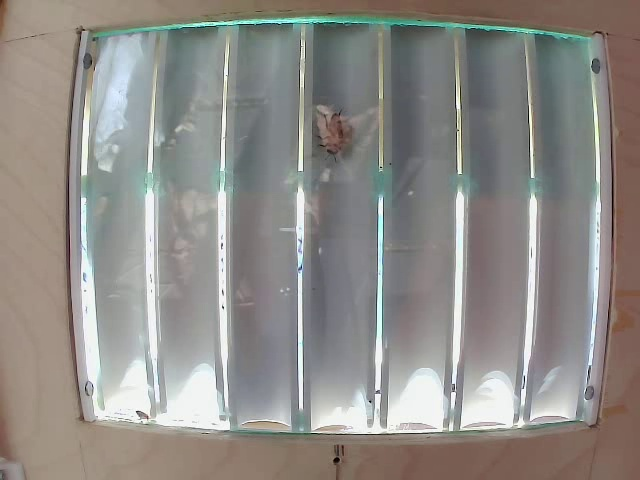bee: (313, 110, 343, 150)
